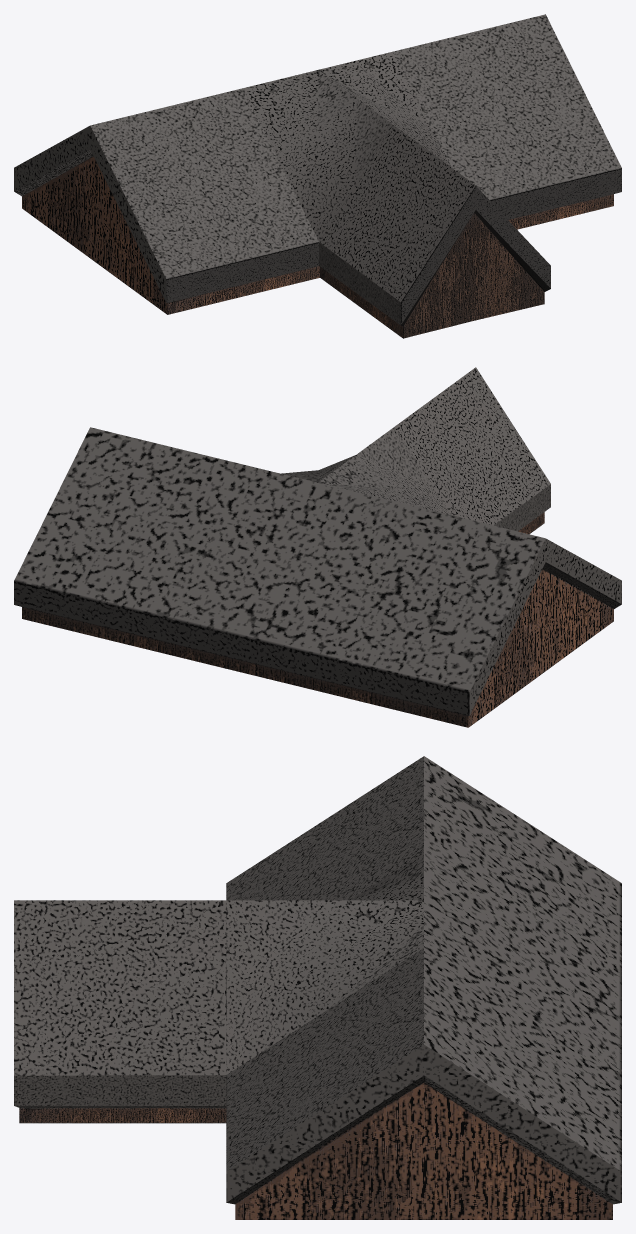
File: RoofB.fbx
3 views of the same model, one above another, from view 1: azimuth 30°, elevation 25°; view 2: azimuth 150°, elevation 25°; view 3: azimuth 270°, elevation 25° (orthographic). The views are drawn at different scales.
Visible parts, largest first — view 1: pCube5; view 2: pCube5; view 3: pCube5.
Part boxes in pixels (<box>): pCube5: <box>14,14,621,338</box>; pCube5: <box>14,367,621,727</box>; pCube5: <box>14,756,621,1219</box>.
Size of the model in its own units: 2000 by 576 by 1781.
